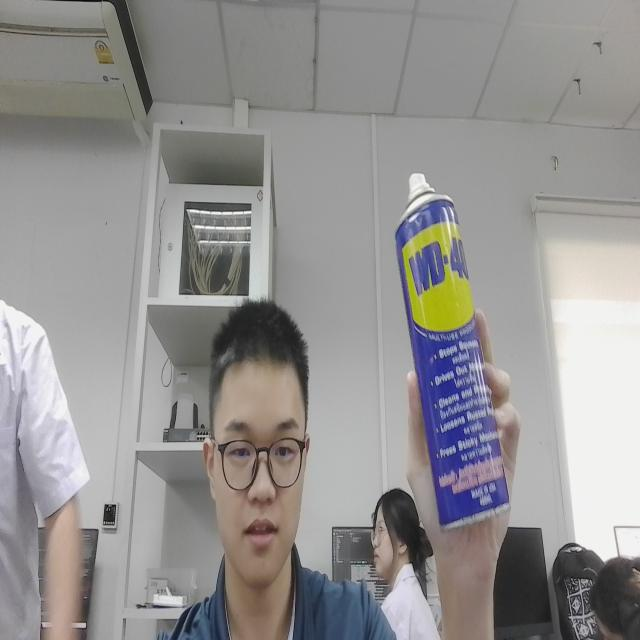wd-40: (383, 148, 527, 540)
